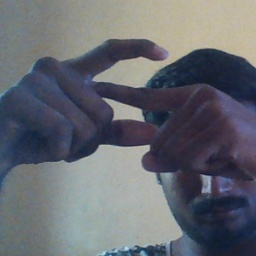E: (74, 34, 180, 154)
